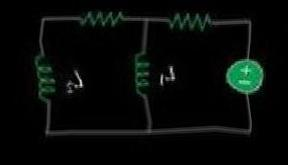Battery: (217, 50, 271, 101)
